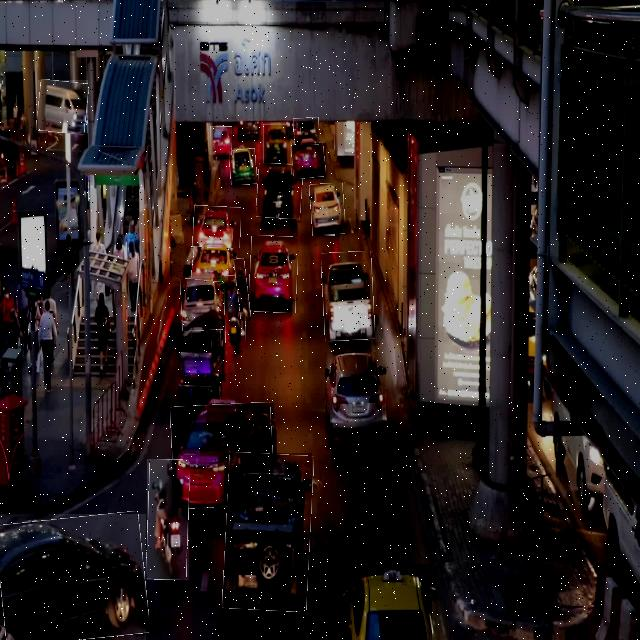Car: (0, 514, 146, 640), (172, 403, 274, 508), (338, 564, 432, 640), (326, 352, 386, 450), (249, 235, 298, 313), (38, 80, 88, 133), (180, 278, 227, 331), (258, 164, 302, 218), (193, 205, 240, 248), (192, 240, 237, 282), (310, 183, 345, 236), (292, 143, 326, 179), (263, 124, 290, 163), (229, 148, 257, 184), (294, 118, 319, 145), (210, 126, 232, 155)
Motorcycle: (147, 459, 189, 580), (225, 275, 245, 354), (236, 258, 250, 321)
Truck: (225, 453, 312, 611), (322, 252, 374, 341)
